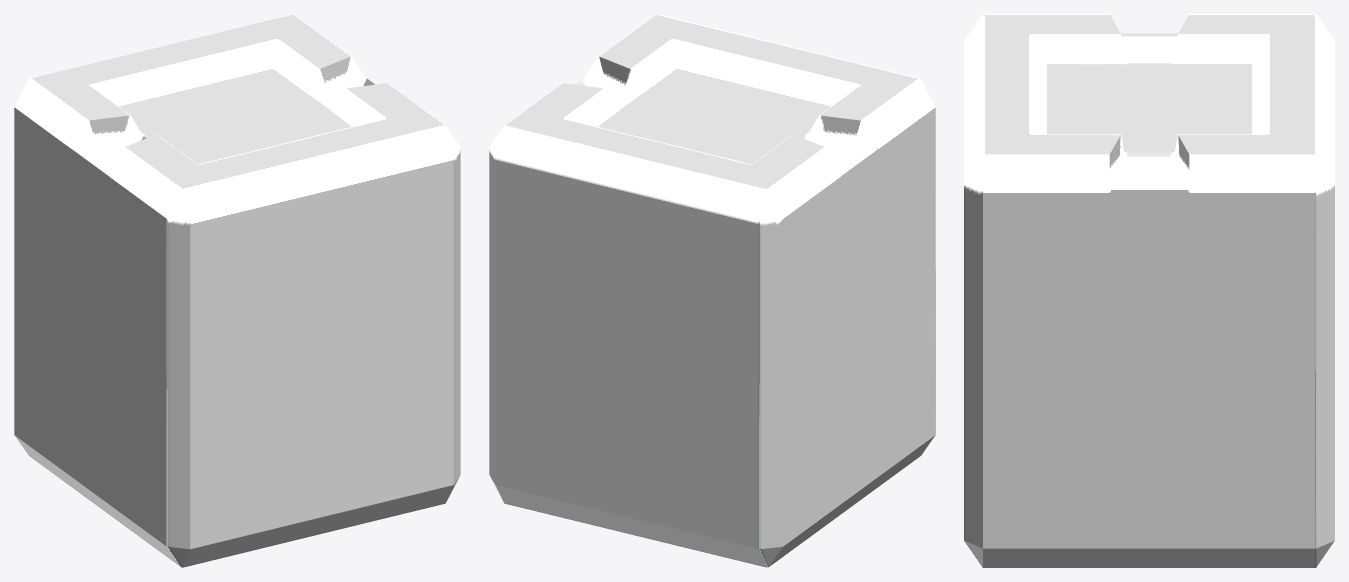
3 views of the same model, side by side, from view 1: azimuth 30°, elevation 25°; view 2: azimuth 150°, elevation 25°; view 3: azimuth 270°, elevation 25° (orthographic). The views are drawn at different scales.
Parts seen in each view (by area): view 1: 002_Cube_002_Low; view 2: 002_Cube_002_Low; view 3: 002_Cube_002_Low.
Part boxes in pixels (x1,y1,x2,y2): 002_Cube_002_Low: [14, 14, 460, 567]; 002_Cube_002_Low: [489, 14, 935, 567]; 002_Cube_002_Low: [964, 14, 1334, 567].
Bounding box in the file's own units: 19.69 × 24.2 × 19.69.
Materials: 1 (1 with a texture image).
